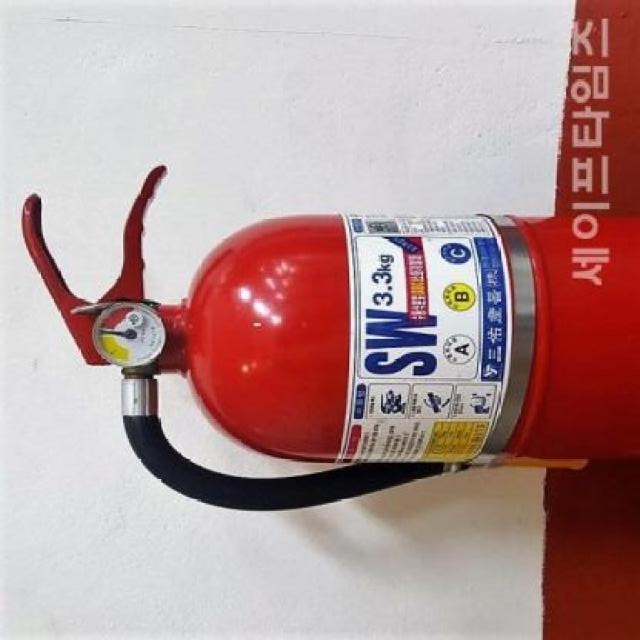fire extinguisher: (20, 165, 640, 513)
